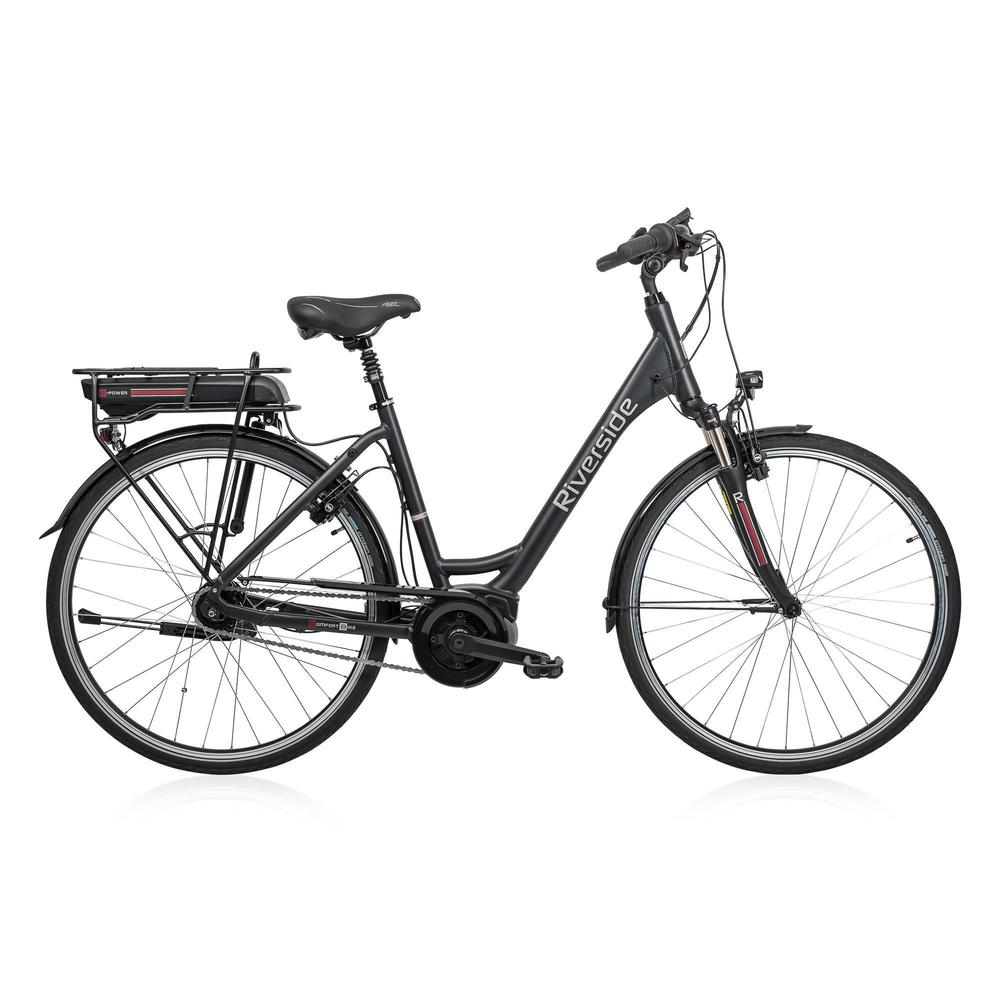UrbanBike: (35, 212, 956, 780)
